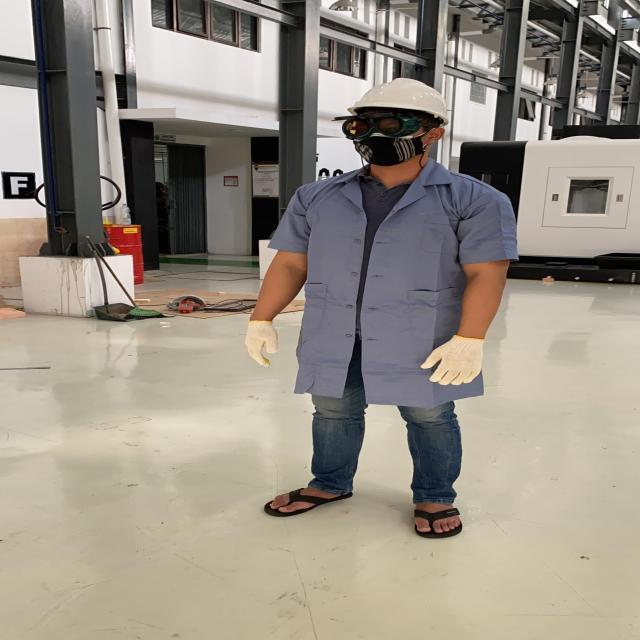glasses: (323, 110, 443, 138)
